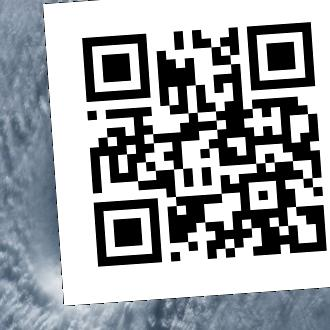qr_code: (43, 9, 329, 296)
